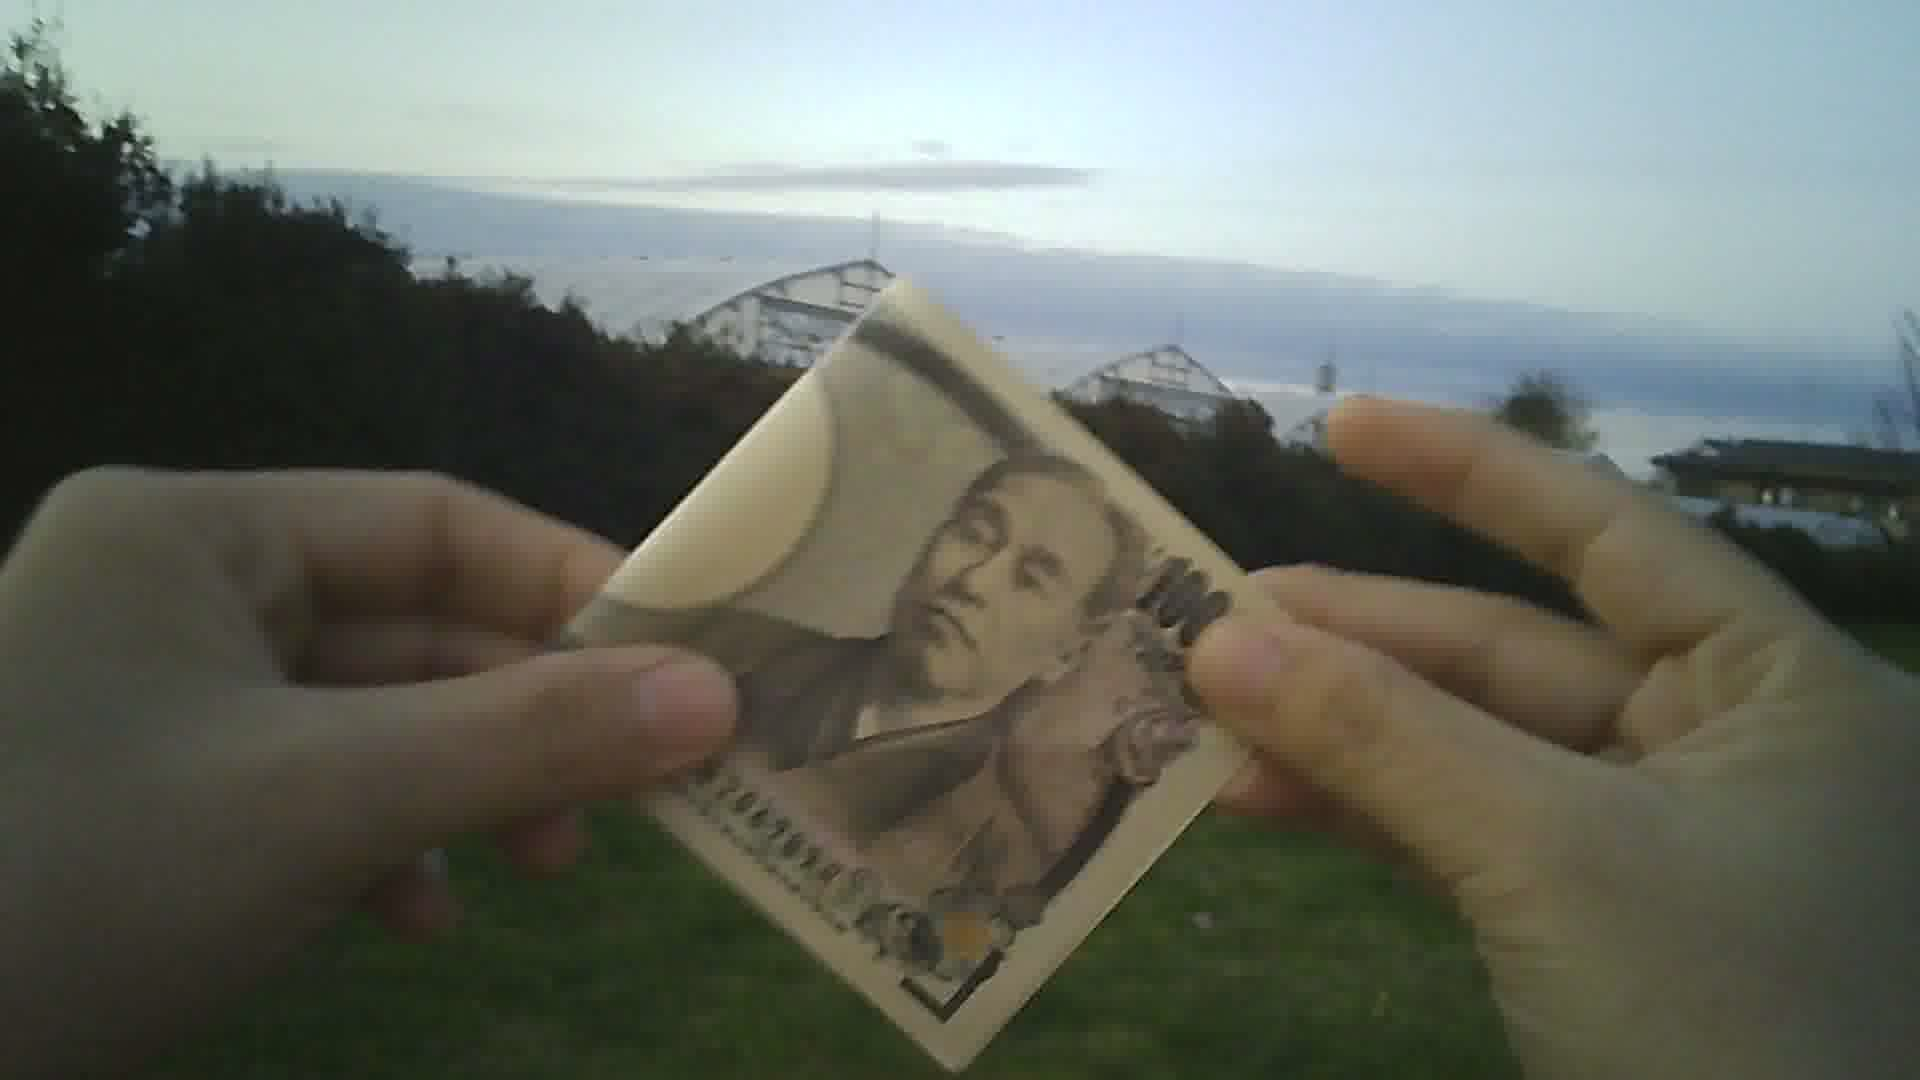10,000 Yen: (493, 268, 1332, 1079)
